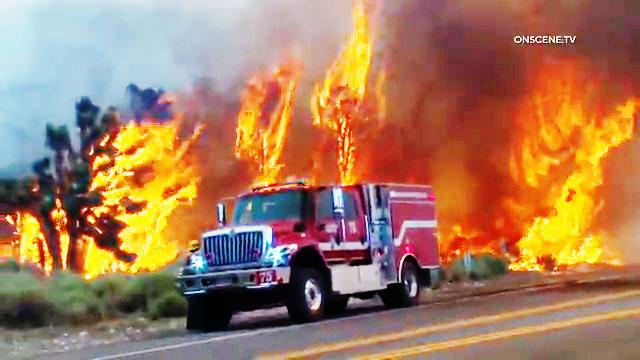fire: (10, 122, 199, 281), (500, 68, 627, 264), (314, 0, 377, 187), (224, 62, 294, 191)
smoke: (406, 12, 477, 196)
